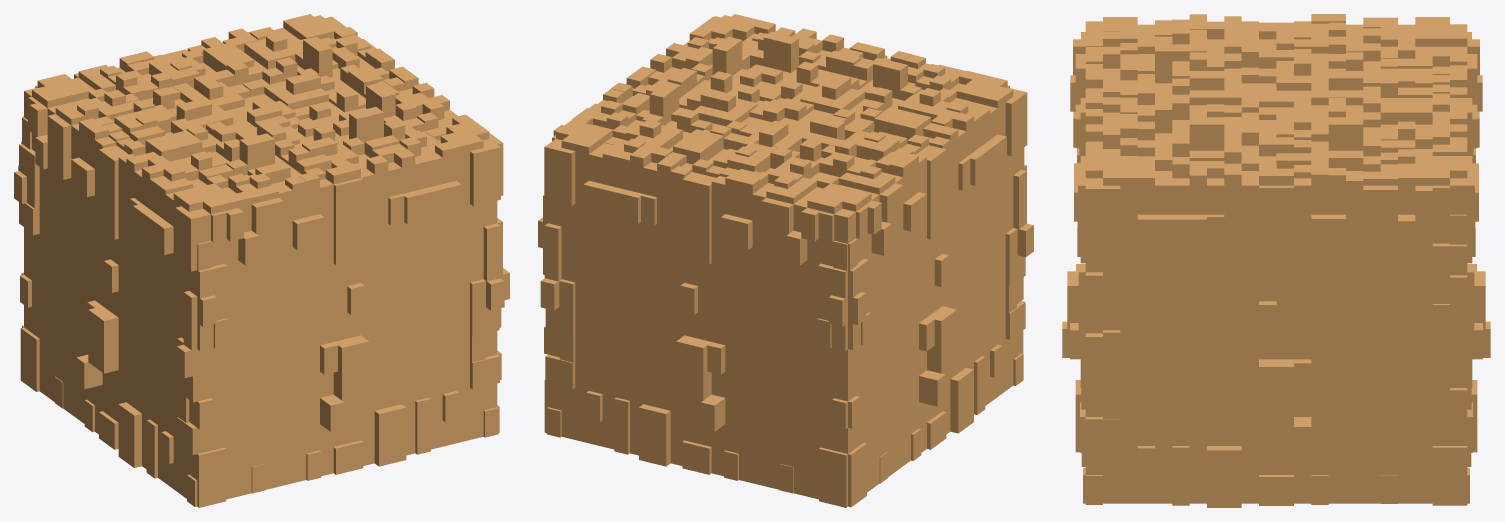
3 renders of one model, left to right at view 1: azimuth 30°, elevation 25°; view 2: azimuth 150°, elevation 25°; view 3: azimuth 270°, elevation 25°, orthographic. The views are drawn at different scales.
Parts seen in each view (by area): view 1: Floor Block 3, Floor Block 3.001; view 2: Floor Block 3, Floor Block 3.001; view 3: Floor Block 3, Floor Block 3.001.
Boxes of the visible parts, x1,y1,x2,y2 form: Floor Block 3: (18, 15, 504, 507); Floor Block 3.001: (14, 14, 509, 506); Floor Block 3: (540, 15, 1026, 507); Floor Block 3.001: (538, 14, 1033, 507); Floor Block 3: (1062, 16, 1490, 503); Floor Block 3.001: (1085, 14, 1467, 507).
Size of the model in its own units: 2.25 by 2.02 by 2.25.
